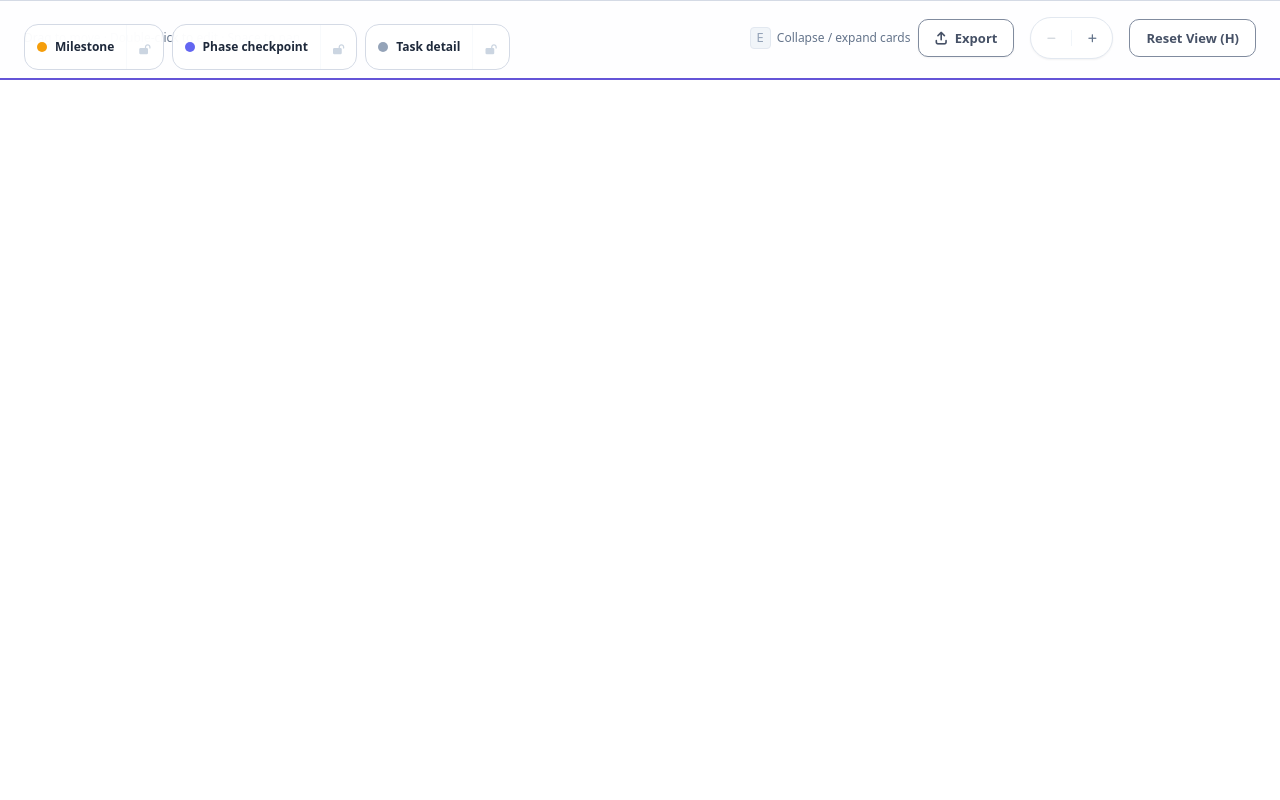
Test: permanent card deletion confirmation › Delete asks first and cancellation preserves the selection
Press a in the element that starts with "Milestone", box 0,0 -> 1279,75
Press Delete in the element that starts with "Milestone", box 0,0 -> 1279,75
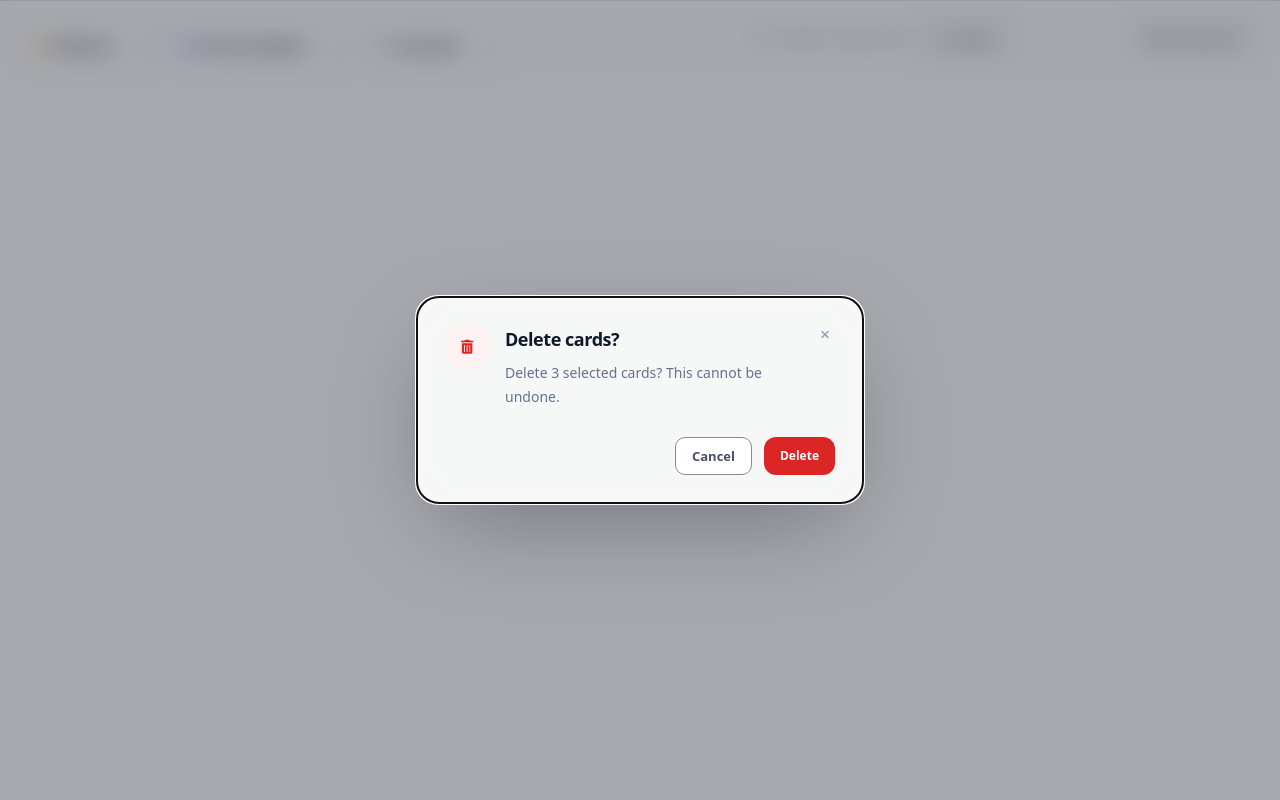
Expected: the dialog shows "Delete cards?", 505,327 -> 619,351
Expected: the dialog shows "Delete 3 selected cards? This cannot be undone.", 505,363 -> 766,406
Click the button "Cancel". click: coordinates (714, 456)
box: 675,437 -> 752,475
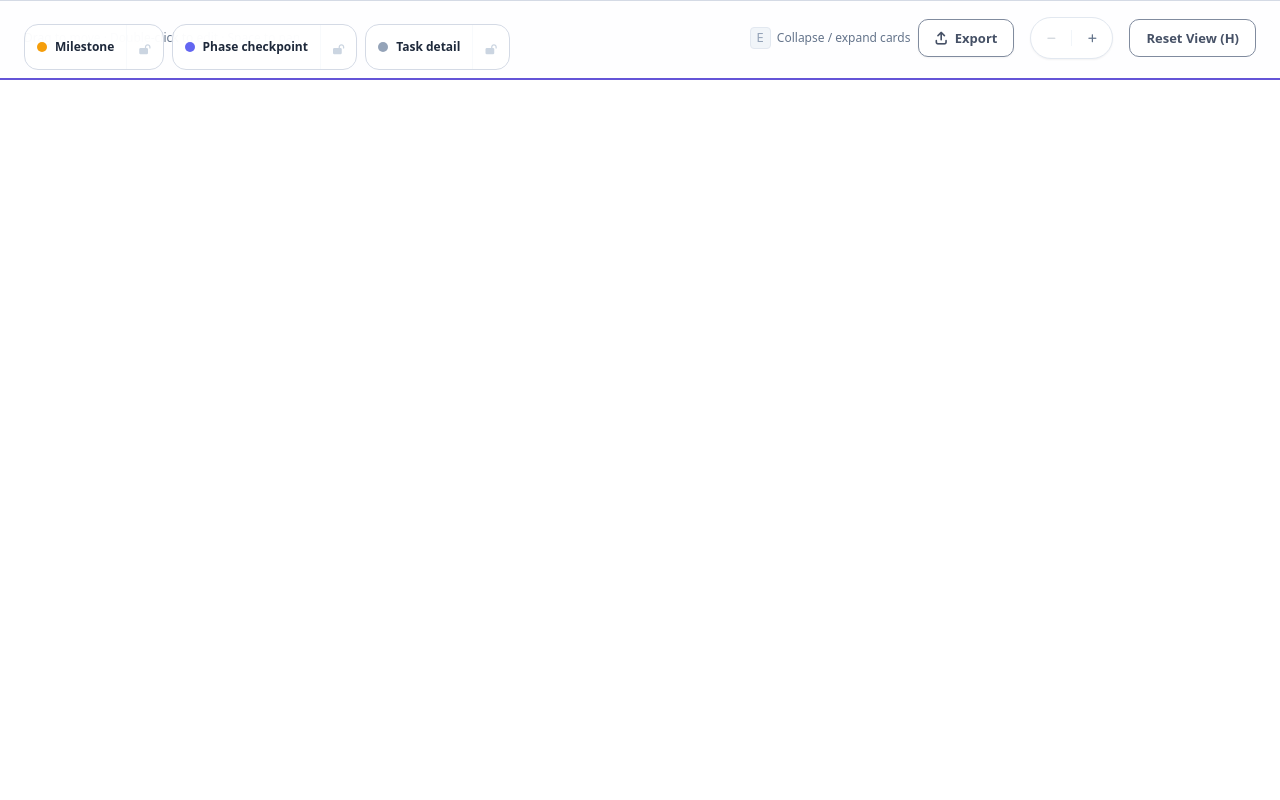
Expected: the button is gone
